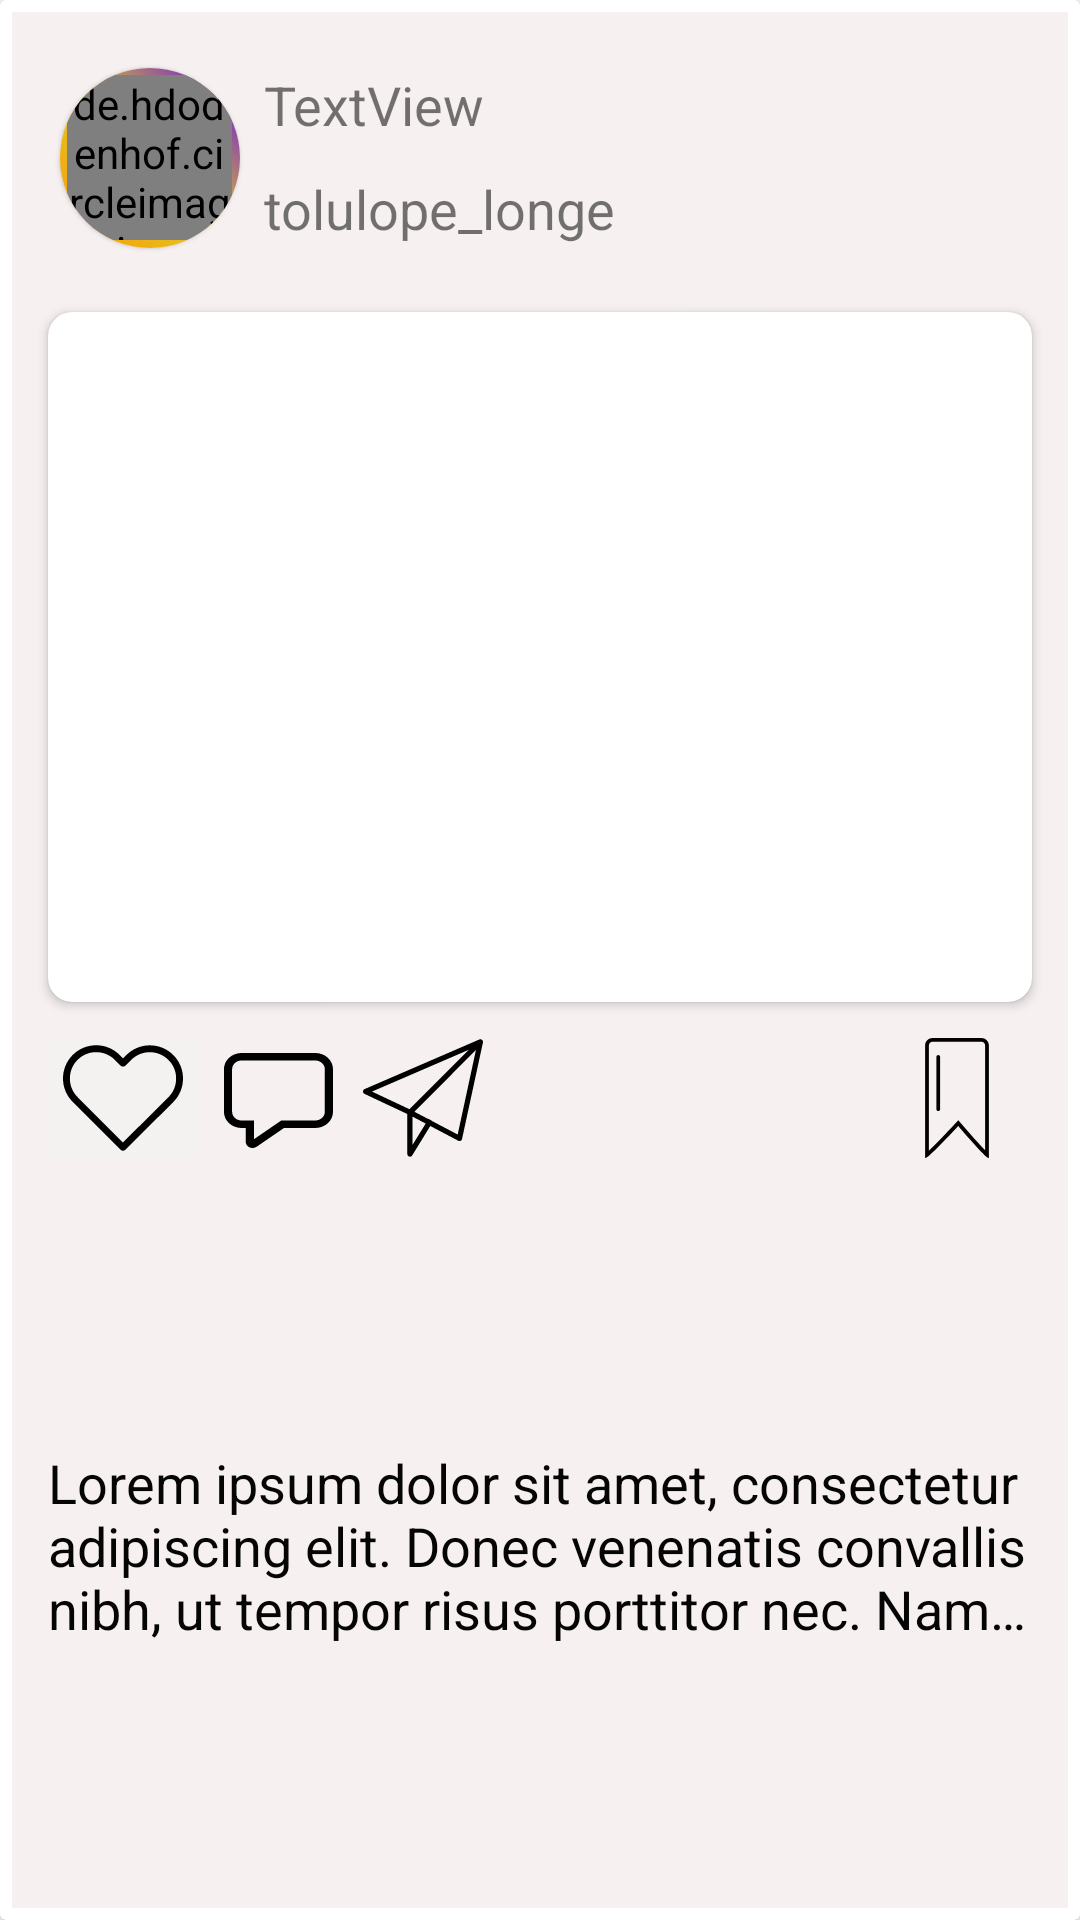

Screen size 1080 x 1920. Icon name, then its center in pixels as [x,y]:
bookmark: [957,1098]
comment: [278,1100]
heart: [123,1098]
send: [423,1098]
